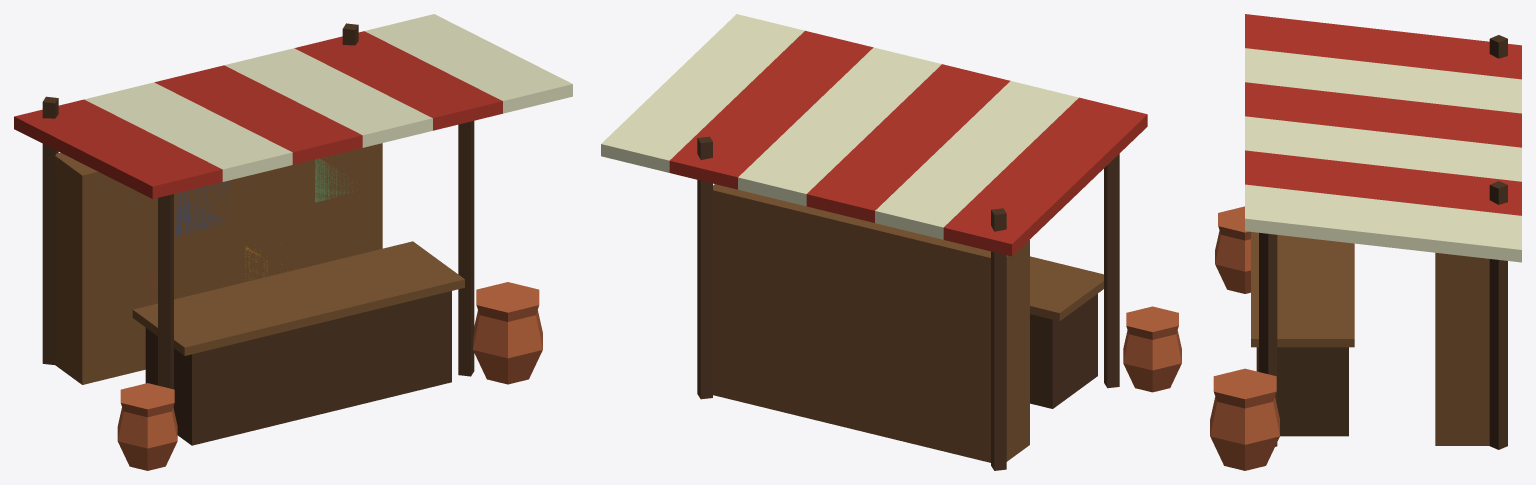
File: stall_cloth_b.fbx
3 renders of one model, left to right at view 1: azimuth 30°, elevation 25°; view 2: azimuth 150°, elevation 25°; view 3: azimuth 270°, elevation 25°, orthographic. The views are drawn at different scales.
Visible parts, largest first — view 1: stall_cloth_b; view 2: stall_cloth_b; view 3: stall_cloth_b.
Boxes of the visible parts, x1=… form: stall_cloth_b: x1=14, y1=14, x2=572, y2=470; stall_cloth_b: x1=601, y1=14, x2=1181, y2=470; stall_cloth_b: x1=1210, y1=14, x2=1521, y2=470.
Bounding box in the file's own units: 4.55 × 2.62 × 2.7.
1 material, 1 textured.
